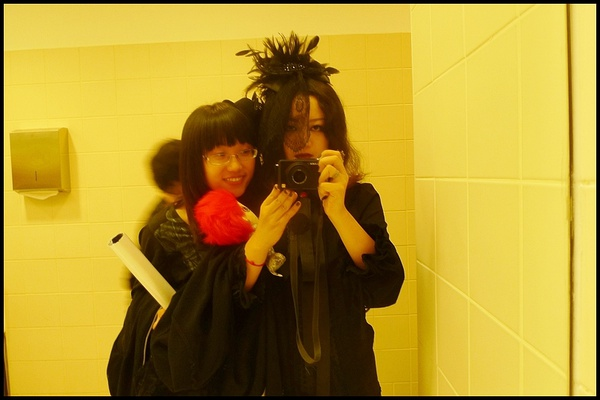face: (197, 136, 258, 194), (282, 100, 326, 163)
